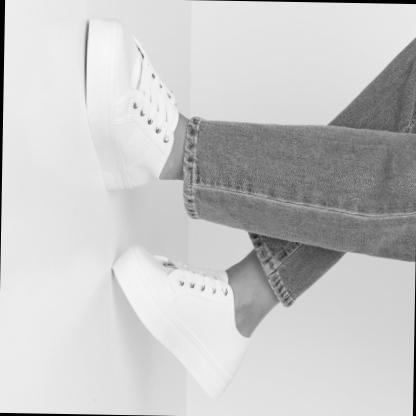ankle: (230, 326, 234, 332), (157, 164, 159, 168)
heel: (132, 184, 135, 187), (231, 373, 233, 377)
left_foot: (109, 244, 249, 402)
pinky: (115, 88, 118, 92), (147, 254, 149, 258)
right_foot: (84, 19, 179, 193)
toe: (140, 267, 144, 272), (119, 24, 123, 29)
